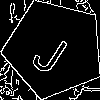J: (29, 24, 76, 77)
